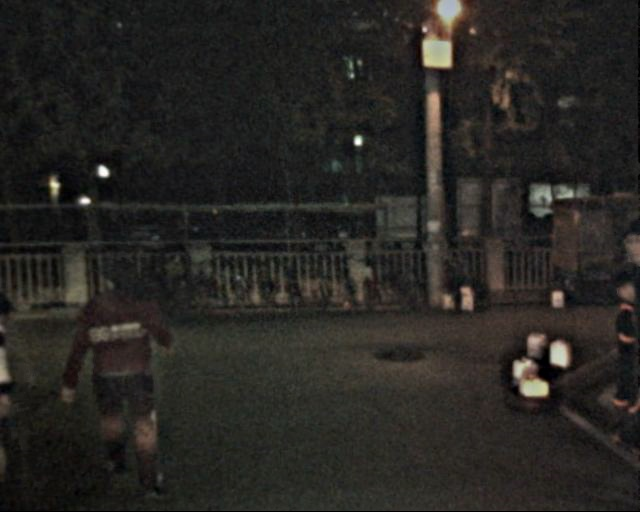person: (80, 243, 179, 499), (1, 275, 40, 502)
